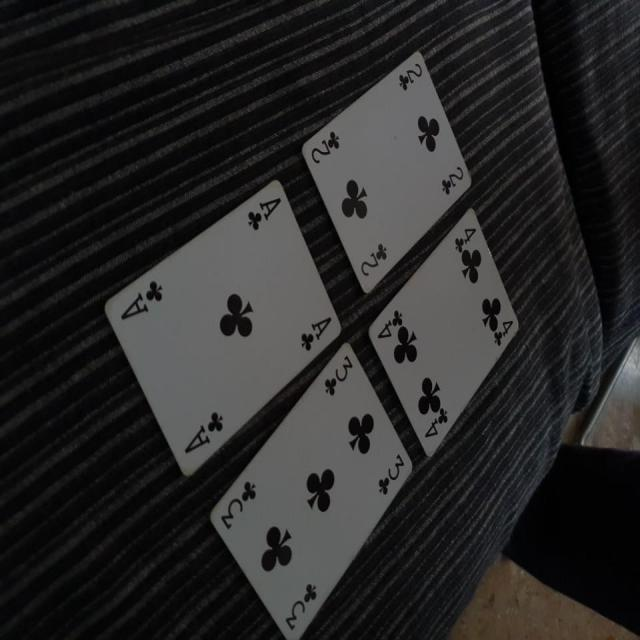2 Trefoils: (300, 50, 473, 293)
3 Trefoils: (210, 339, 412, 640)
4 Trefoils: (367, 207, 519, 459)
A Trefoils: (104, 179, 346, 481)
